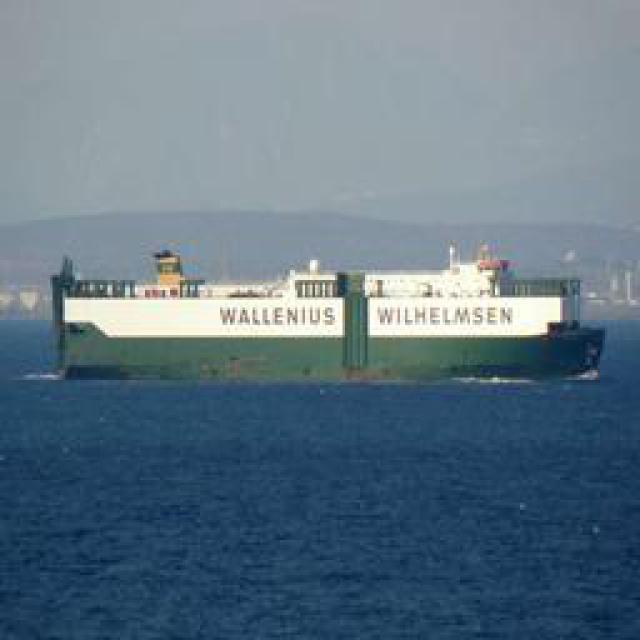Ship: (46, 235, 601, 378)
